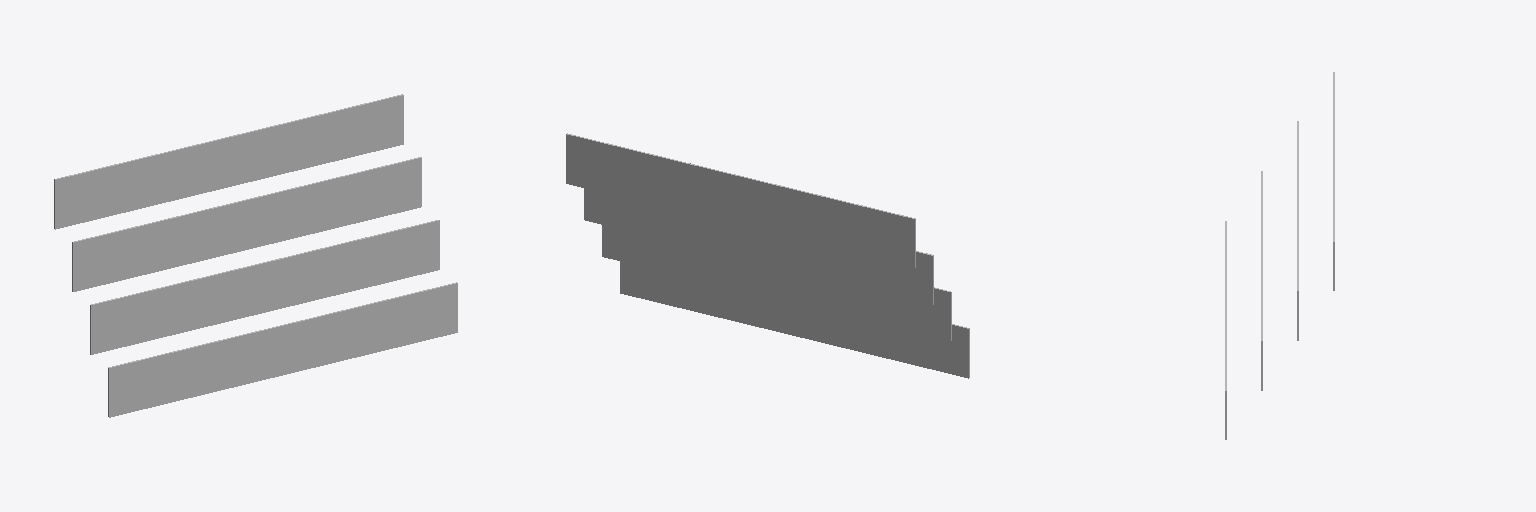
The model's file is Platten_H_Eingang.obj.
The picture shows the model from 3 angles: view 1: azimuth 30°, elevation 25°; view 2: azimuth 150°, elevation 25°; view 3: azimuth 270°, elevation 25°; orthographic projection.
Size of the model in its own units: 1881 by 1025 by 512.